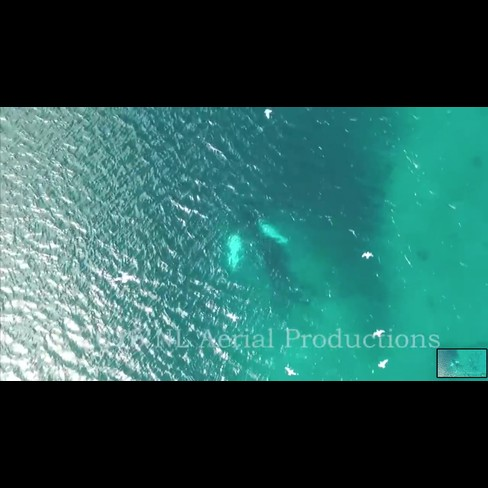hump: (209, 186, 309, 323)
